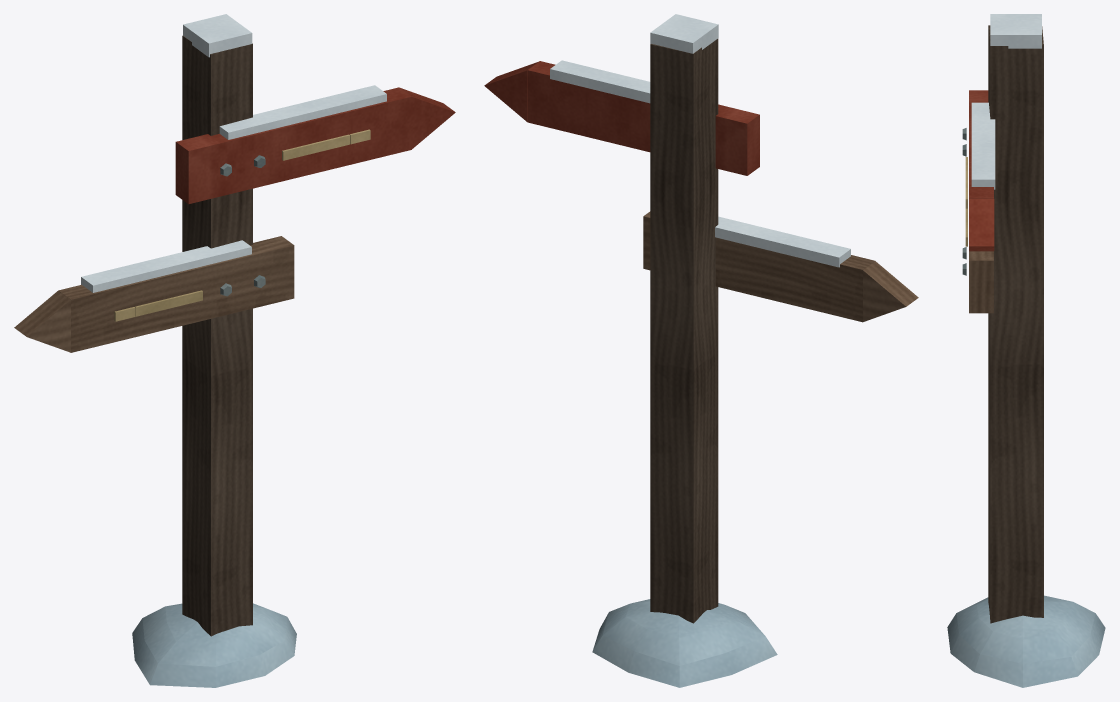
Rendered from 12_Trail_Signpost.obj.
3 renders of one model, left to right at view 1: azimuth 30°, elevation 25°; view 2: azimuth 150°, elevation 25°; view 3: azimuth 270°, elevation 25°, orthographic.
Visible parts, largest first — view 1: 12_Trail_Signpost; view 2: 12_Trail_Signpost; view 3: 12_Trail_Signpost.
Boxes of the visible parts, left/top/right/bottom form: 12_Trail_Signpost: left=14, top=14, right=455, bottom=687; 12_Trail_Signpost: left=484, top=14, right=918, bottom=687; 12_Trail_Signpost: left=947, top=14, right=1105, bottom=687.
Bounding box in the file's own units: 1.46 × 2.07 × 0.4695.
7 materials, 7 textured.
